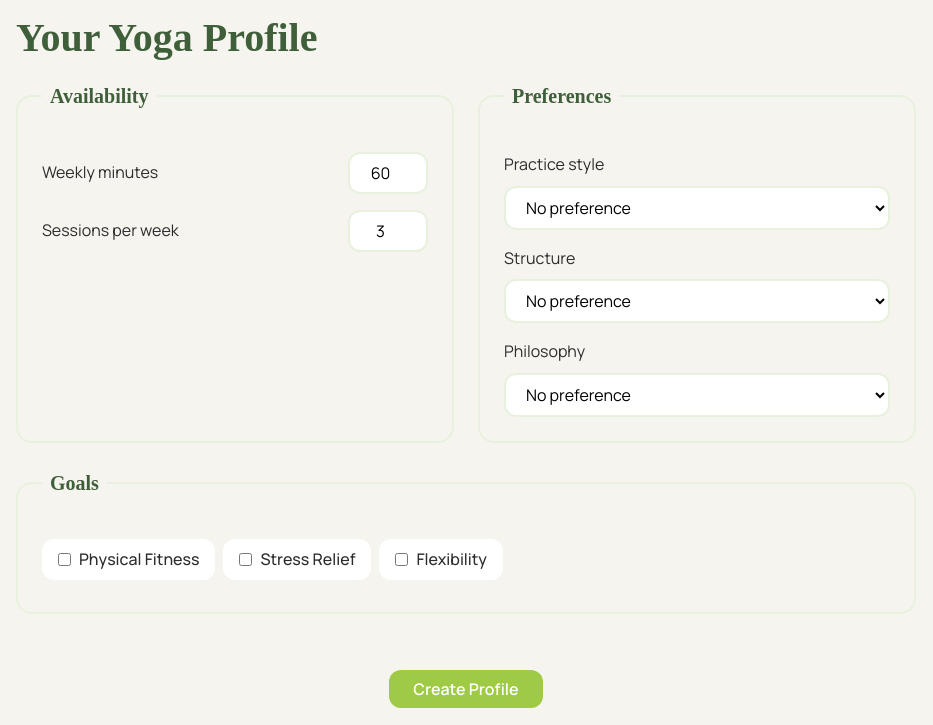
it: Profile Page › validation › shows error when sessions per week exceeds maximum
The width and height of the screenshot is (933, 725).
Replace the text in the number field labelled "Sessions per week" with "10". click: (388, 231)
box: [348,210,428,252]
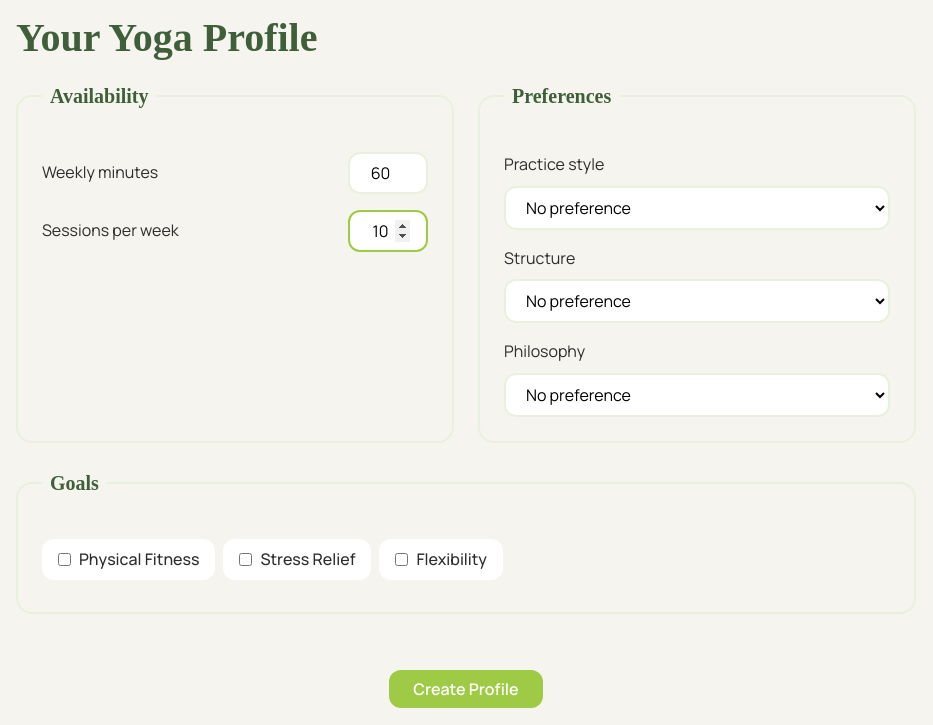
Click the button "Create Profile". click: (466, 689)
box: [389,670,543,708]
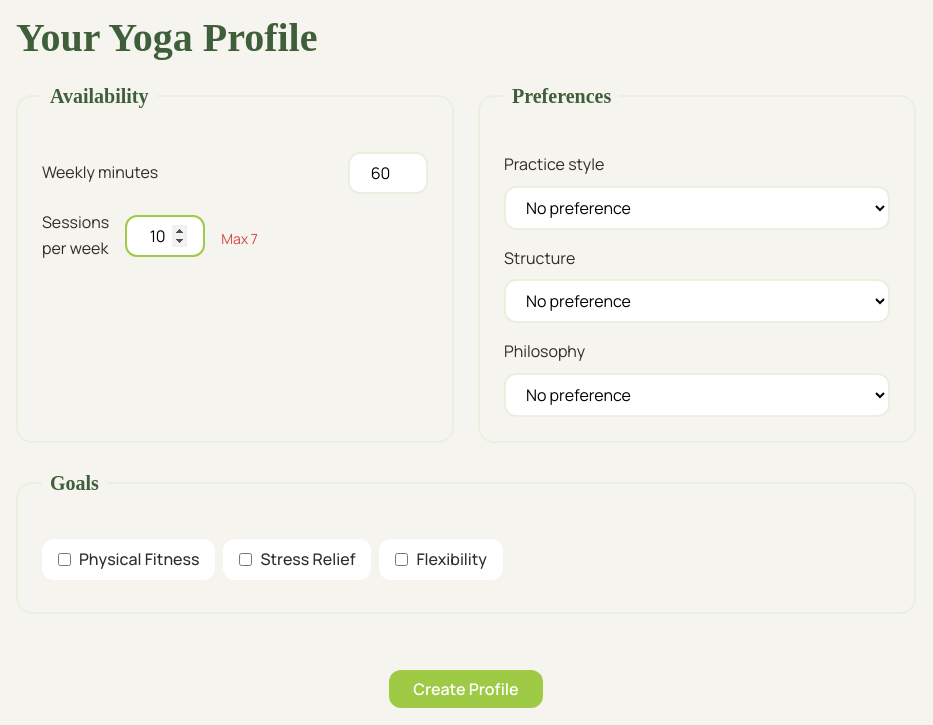
expect the text "Max 7" is shown: met, box [221,229,258,248]
